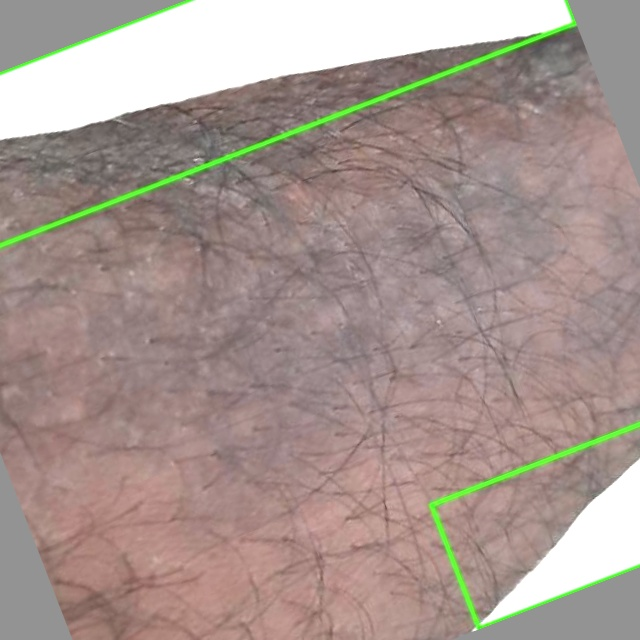Contact Dermatitis: (0, 0, 575, 245), (431, 424, 639, 628)
